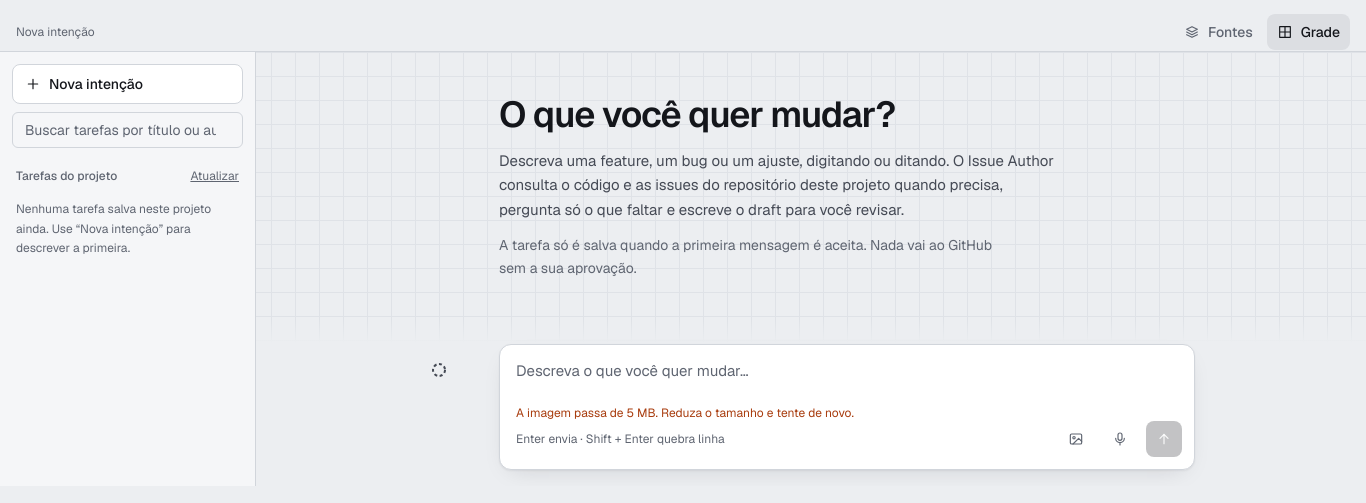
Test: message attachments › explains a refused upload and keeps the message sendable
Expected: the message reads "A imagem passa de 5 MB. Reduza o tamanho e tente de novo.", [516,405,854,421]
Type "O pagamento da assinatura falha" into the text box named "Mensagem para o Issue Author". click: (847, 371)
box: [500,345,1194,397]
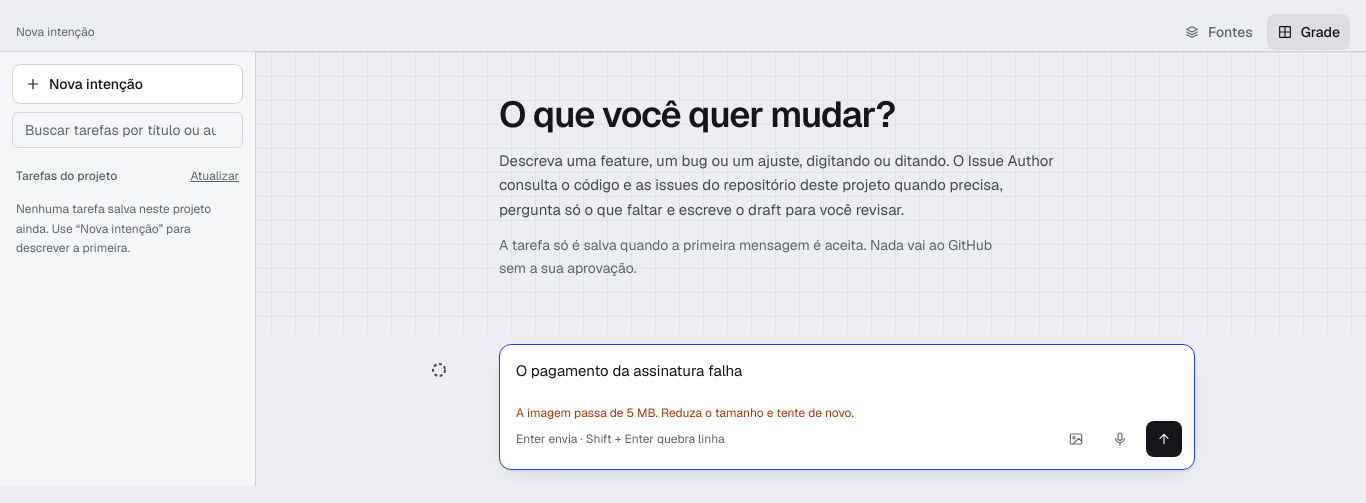
Expected: the button named "Enviar" is enabled, [1146,421,1182,457]
